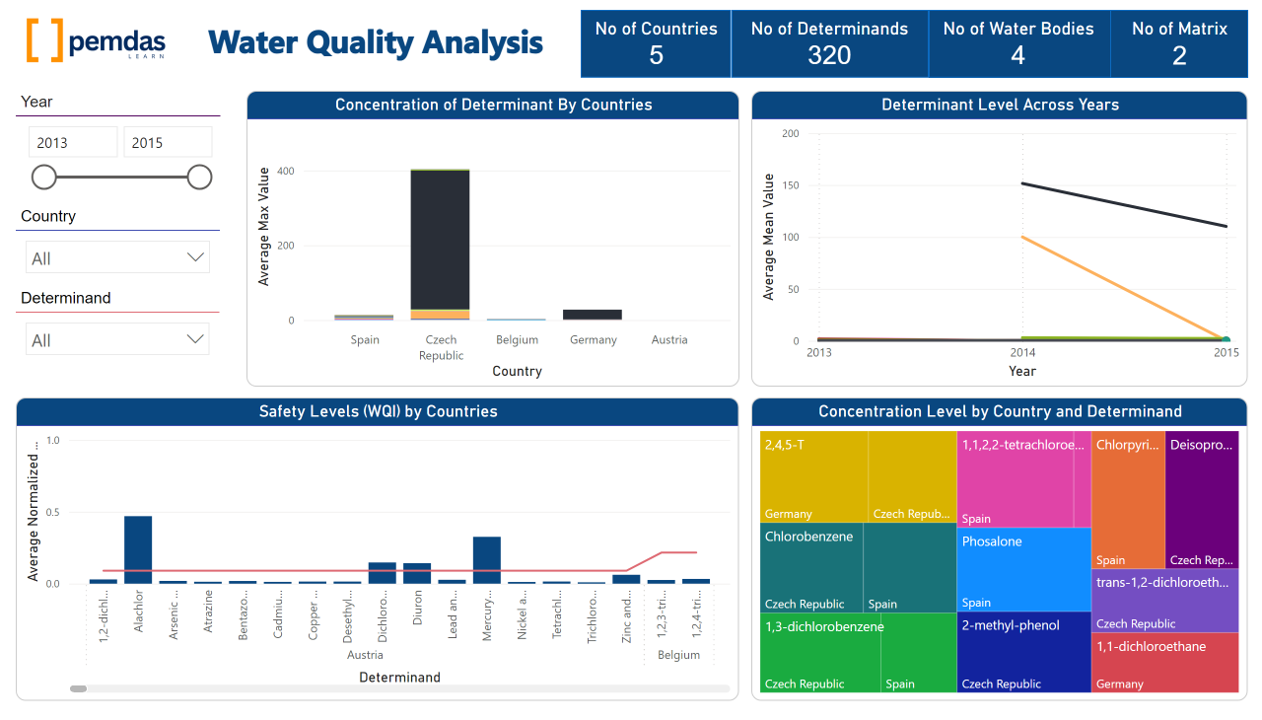

The dashboard page shown, as its layout file describes it:
{"tool":"powerbi","page":{"name":"Page 1","canvas":[1280,720],"ordinal":0},"visuals":[{"type":"shape","box":[588.6,10,152.5,68.8],"z":0,"group":"g3"},{"type":"shape","box":[941.2,10,185,68.8],"z":0,"group":"g3"},{"type":"textbox","box":[178.6,14.3,404.3,62.9],"z":0},{"type":"shape","box":[741.3,10,200,68.8],"z":1000,"group":"g3"},{"type":"group","id":"g1","title":"Group 1","box":[16.4,210.1,206.7,73.3],"z":1000},{"type":"shape","box":[1126.1,10,140,69.2],"z":2000,"group":"g3"},{"type":"group","id":"g2","title":"Group 1","box":[16.4,292.8,206.7,78.3],"z":2000},{"type":"card","title":"No of Water Bodies","fields":{"Values":["Count(gold_table.water_body)"]},"box":[950,17.5,166.2,55],"z":3000,"group":"g3"},{"type":"slicer","title":"Year","fields":{"Values":["gold_table.Reference_Year"]},"box":[16.4,93.6,207.3,107.3],"z":3000},{"type":"slicer","title":"Country","fields":{"Values":["gold_table.Country_Name"]},"box":[16.4,210.1,207,72.8],"z":3000,"group":"g1"},{"type":"slicer","title":"Determinand","fields":{"Values":["gold_table.Determinand_Label"]},"box":[16.4,292.8,206.7,78.3],"z":3000,"group":"g2"},{"type":"card","title":"No of Countries","fields":{"Values":["Count(gold_table.Country_Name)"]},"box":[596.3,18.4,137.5,55],"z":5000,"group":"g3"},{"type":"columnChart","title":"Concentration of Determinant By Countries","fields":{"Category":["gold_table.Country_Name"],"Y":["Avg(gold_table.Maximum_value)"],"Series":["gold_table.Determinand_Label"]},"box":[250,91.8,500,300],"z":5000},{"type":"card","title":"No of Determinands","fields":{"Values":["Count(gold_table.Determinand_Label)"]},"box":[753.8,17.5,175,55],"z":6000,"group":"g3"},{"type":"lineChart","title":"Determinant Level Across Years","fields":{"Category":["gold_table.Reference_Year"],"Y":["Avg(gold_table.Mean_Value)"],"Series":["gold_table.Determinand_Label"]},"box":[761.8,91.8,503.6,300],"z":6000},{"type":"card","title":"No of Matrix","fields":{"Values":["Count(gold_table.Analyzed_Matrix)"]},"box":[1132.5,17.5,127.3,55.3],"z":7000,"group":"g3"},{"type":"lineStackedColumnComboChart","title":"Safety Levels (WQI) by Countries","fields":{"Category":["gold_table.Country_Name","gold_table.Determinand_Label"],"Y":["Avg(gold_table.Normalized MeanValue bycountry)"],"Y2":["gold_table.WQI"]},"box":[16.4,402.7,733.6,307.3],"z":7000},{"type":"treemap","title":"Concentration Level by Country and Determinand","fields":{"Group":["gold_table.Determinand_Label","gold_table.Reference_Year"],"Details":["gold_table.Country_Name"],"Values":["Avg(gold_table.Normalized MeanValue bycountry)"]},"box":[761.8,402.7,503.6,307.3],"z":8000},{"type":"image","box":[21.7,10,160,61.7],"z":9000},{"type":"group","id":"g3","title":"Group 2","box":[588.6,10,677.5,69.2],"z":9001}]}

Visuals, with their boxes in screenshot pixels (x1, y1, x2, y2), scaled from the page's 1280x720 canvas onto the 1262x720 screenshot:
shape: {"left": 580, "top": 10, "right": 731, "bottom": 79}
shape: {"left": 928, "top": 10, "right": 1110, "bottom": 79}
textbox: {"left": 176, "top": 14, "right": 575, "bottom": 77}
shape: {"left": 731, "top": 10, "right": 928, "bottom": 79}
"Group 1" group: {"left": 16, "top": 210, "right": 220, "bottom": 283}
shape: {"left": 1110, "top": 10, "right": 1248, "bottom": 79}
"Group 1" group: {"left": 16, "top": 293, "right": 220, "bottom": 371}
"No of Water Bodies" card: {"left": 937, "top": 18, "right": 1101, "bottom": 72}
"Year" slicer: {"left": 16, "top": 94, "right": 221, "bottom": 201}
"Country" slicer: {"left": 16, "top": 210, "right": 220, "bottom": 283}
"Determinand" slicer: {"left": 16, "top": 293, "right": 220, "bottom": 371}
"No of Countries" card: {"left": 588, "top": 18, "right": 723, "bottom": 73}
"Concentration of Determinant By Countries" columnChart: {"left": 246, "top": 92, "right": 739, "bottom": 392}
"No of Determinands" card: {"left": 743, "top": 18, "right": 916, "bottom": 72}
"Determinant Level Across Years" lineChart: {"left": 751, "top": 92, "right": 1248, "bottom": 392}
"No of Matrix" card: {"left": 1117, "top": 18, "right": 1242, "bottom": 73}
"Safety Levels (WQI) by Countries" lineStackedColumnComboChart: {"left": 16, "top": 403, "right": 739, "bottom": 710}
"Concentration Level by Country and Determinand" treemap: {"left": 751, "top": 403, "right": 1248, "bottom": 710}
image: {"left": 21, "top": 10, "right": 179, "bottom": 72}
"Group 2" group: {"left": 580, "top": 10, "right": 1248, "bottom": 79}
